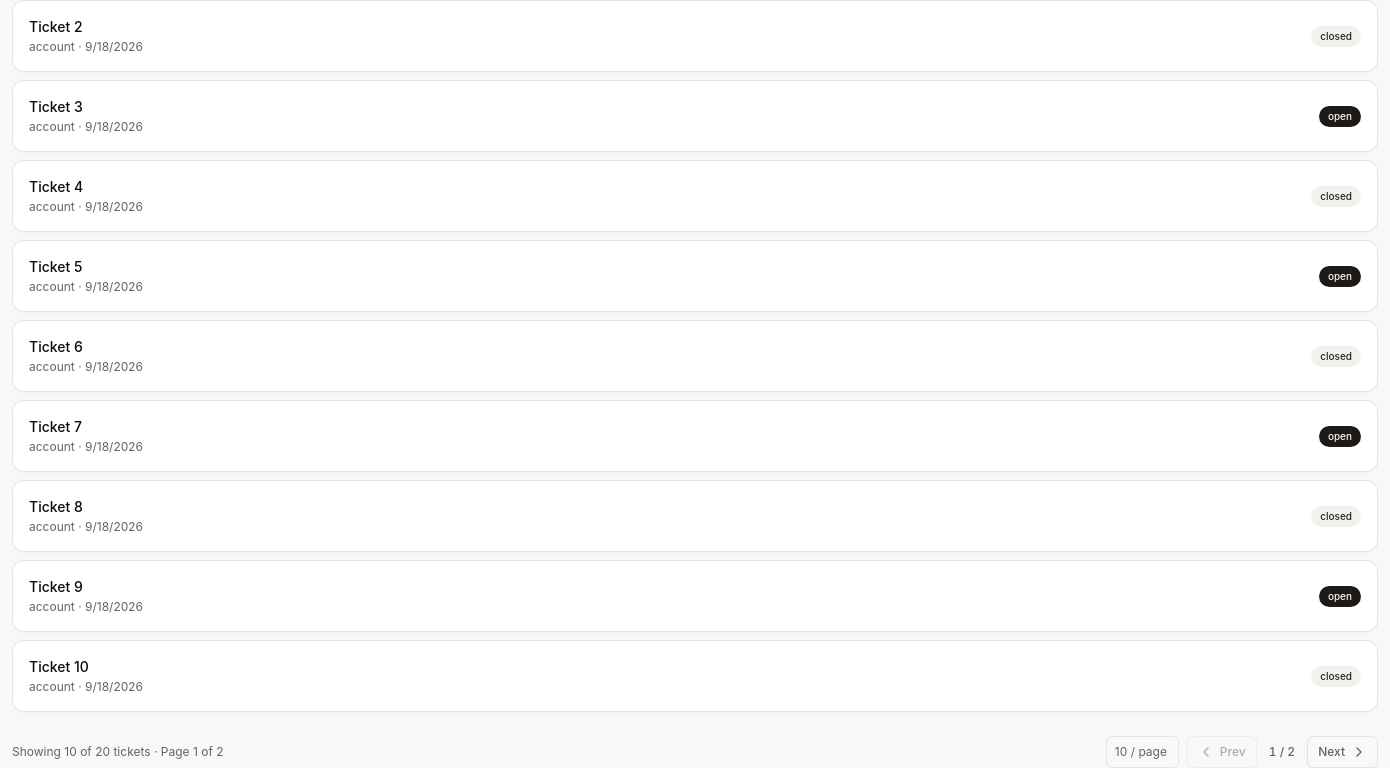
Scenario: Support Page › Full Integration › paginates many tickets
(page scrolled)
Expected: the text "Ticket 20" is not shown
Expected: the text "Showing 10 of 20 tickets · Page 1 of 2" is shown, [12,744,224,760]
Next page shows the remaining 10
Click the button "Next" at (1343, 752), box [1307,736,1378,767]
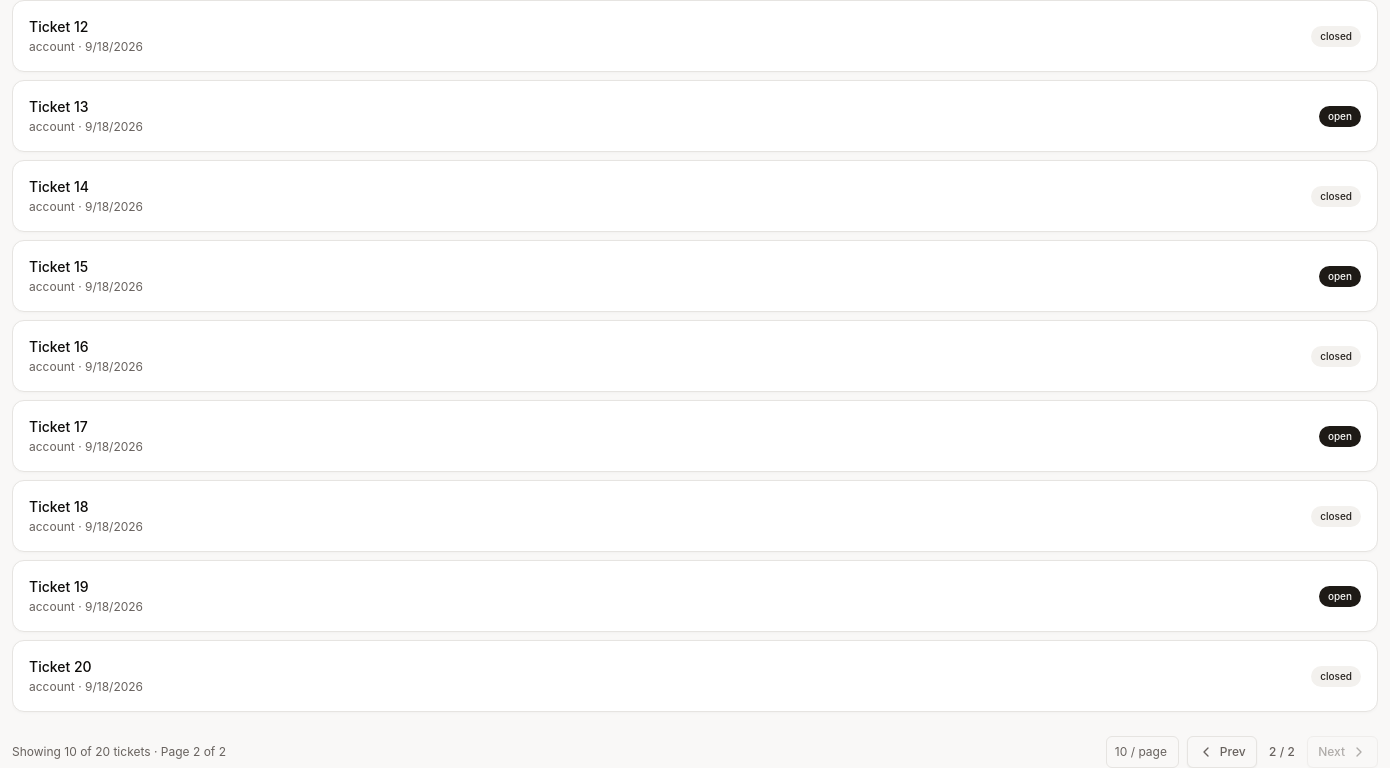
Expected: the text "Showing 10 of 20 tickets · Page 2 of 2" is shown, [12,744,226,760]
Now the text "Ticket 20" is shown, box [29,658,92,675]
